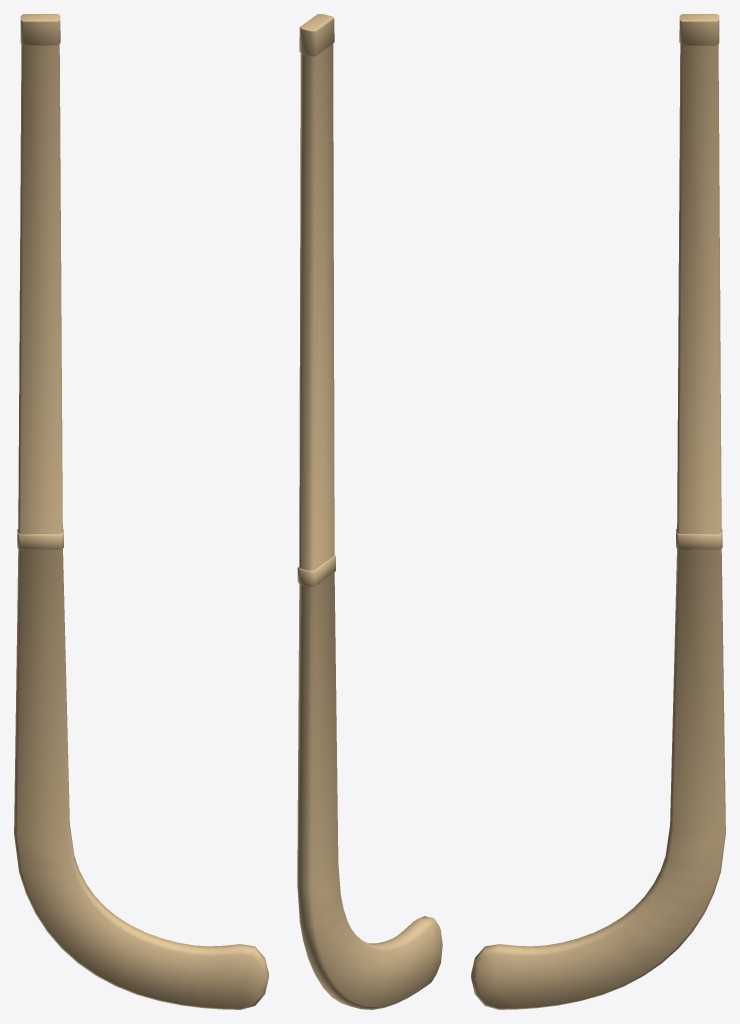
Rendered from SM_Palo.glb.
The picture shows the model from 3 angles, left to right: view 1: azimuth 90°, elevation 25°; view 2: azimuth 150°, elevation 25°; view 3: azimuth 270°, elevation 25°; orthographic projection. The views are drawn at different scales.
Parts seen in each view (by area): view 1: SM_Palo; view 2: SM_Palo; view 3: SM_Palo.
Boxes of the visible parts, x1,y1,x2,y2 form: SM_Palo: (14,14,268,1009); SM_Palo: (297,14,442,1009); SM_Palo: (471,14,725,1009).
Bounding box in the file's own units: 0.0235 × 1.23 × 0.2868.
